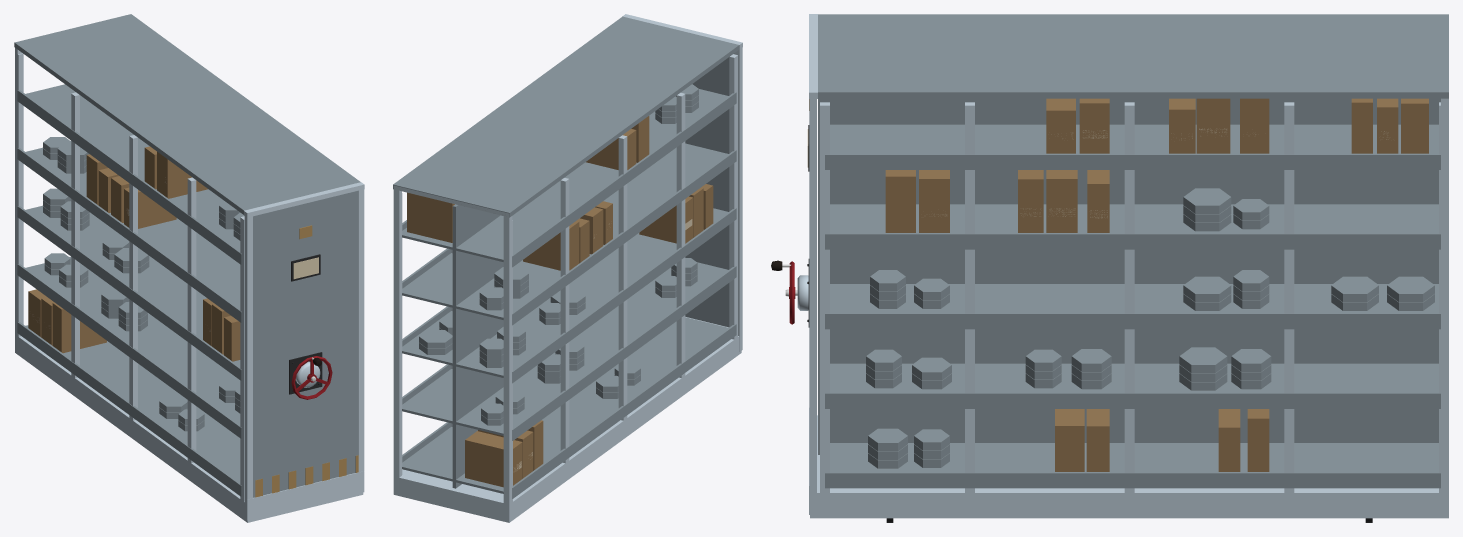
The model's file is carriage_3.glb.
3 views of the same model, side by side, from view 1: azimuth 30°, elevation 25°; view 2: azimuth 150°, elevation 25°; view 3: azimuth 270°, elevation 25° (orthographic). The views are drawn at different scales.
Visible parts, largest first — view 1: carriage_body, IA_crank, end_tag; view 2: carriage_body; view 3: carriage_body.
Part boxes in pixels (x1,y1,x2,y2): carriage_body: [14, 14, 364, 522]; IA_crank: [291, 356, 332, 399]; end_tag: [293, 257, 318, 279]; carriage_body: [393, 14, 742, 522]; carriage_body: [795, 14, 1448, 522].
Size of the model in its own units: 0.932 by 2.45 by 3.4.
